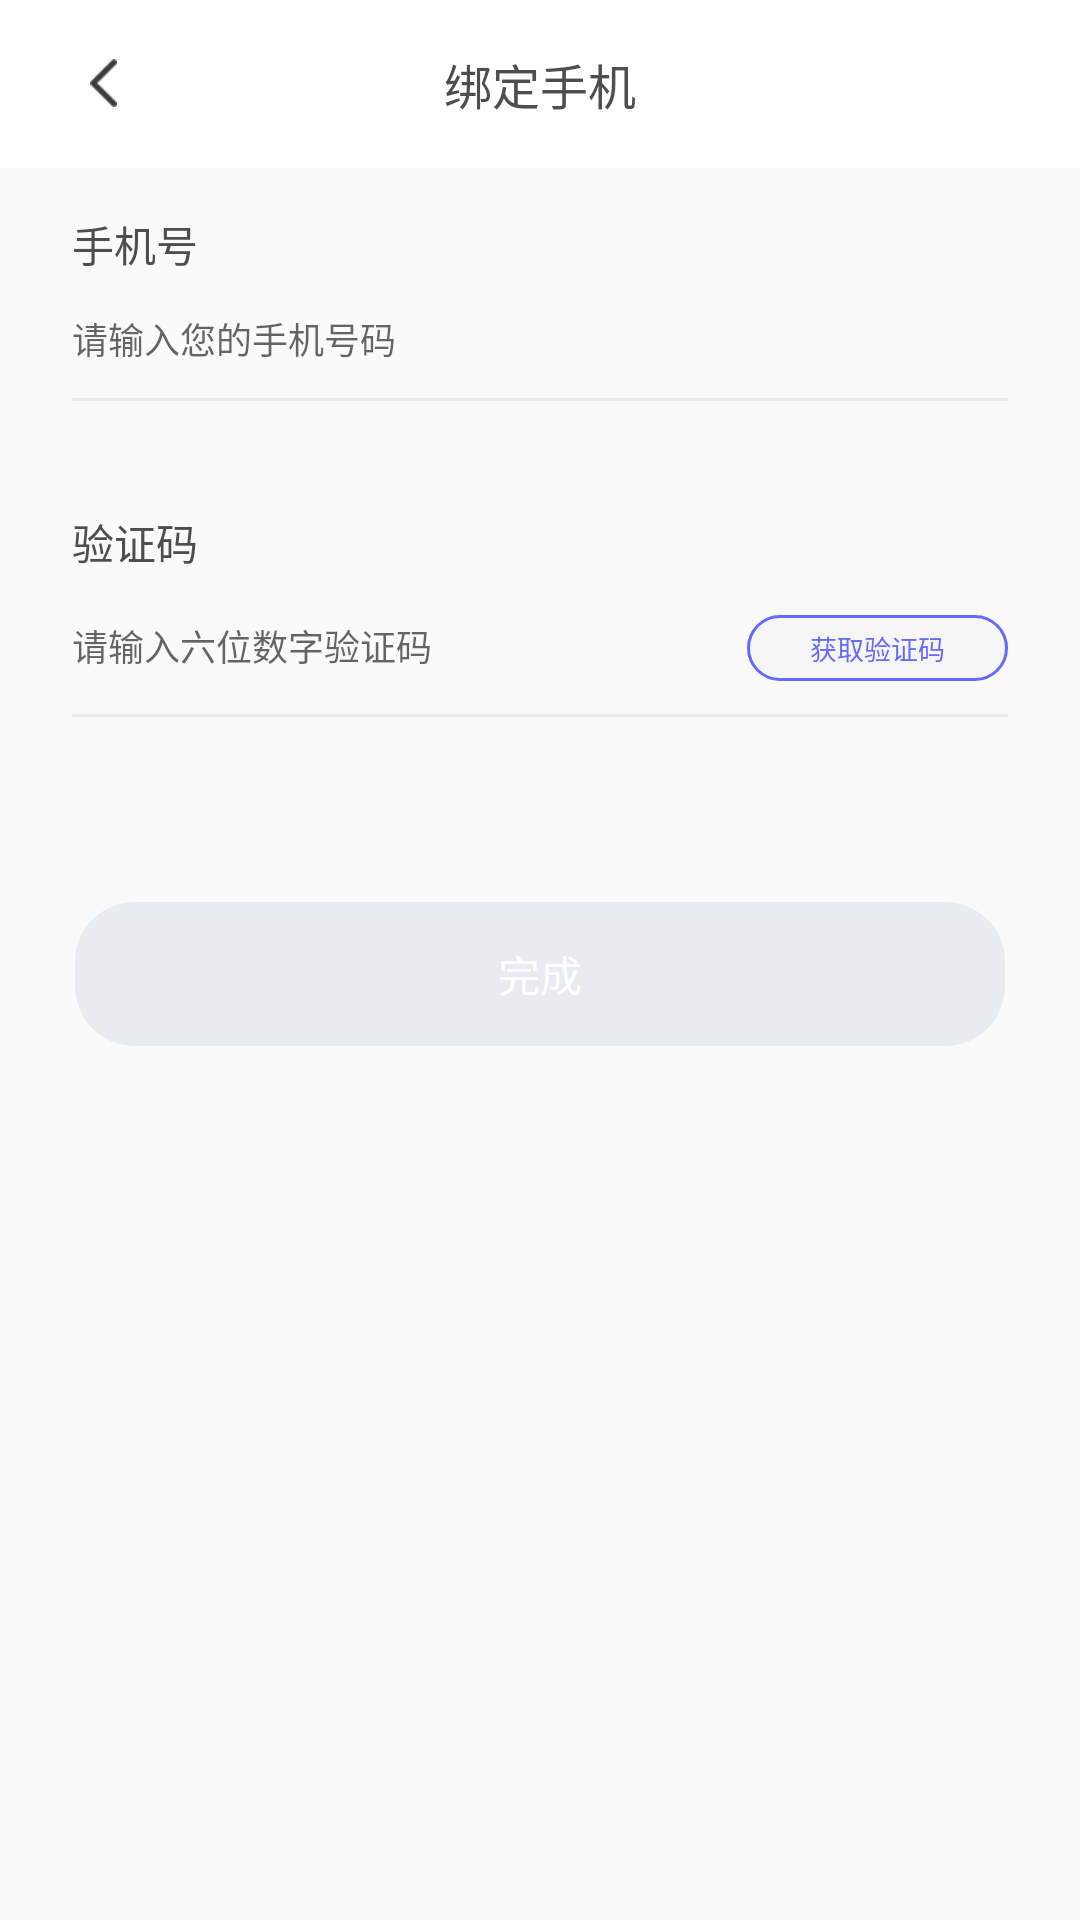

Locate icon controls on the screen. Image size 1080 x 1920, boxes as (x1, y1, x2, y2).
back: (90, 59, 117, 107)
